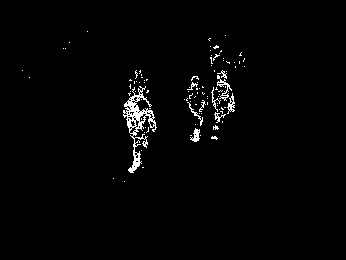person: (122, 86, 155, 176), (182, 73, 209, 143), (210, 69, 236, 141)
